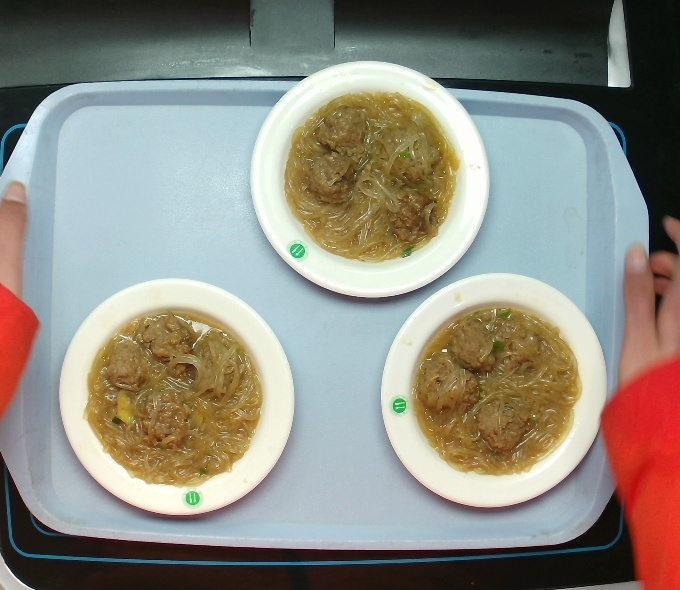wcq-FenSiNiuRouWan: (81, 298, 273, 494), (407, 297, 588, 485), (283, 86, 467, 265)
